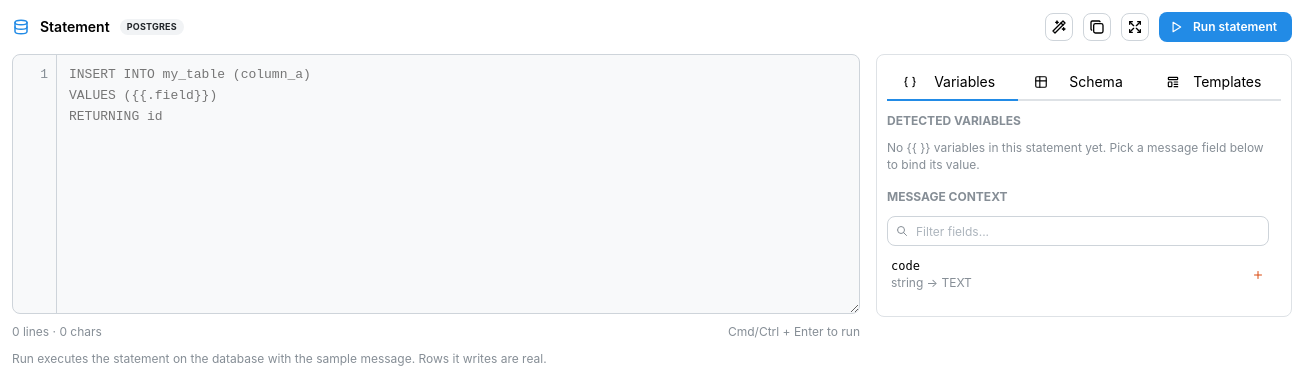
Test: SQL builder workspace › says a schema failure is a schema failure
This screenshot has width=1304, height=383.
Click the tab "Schema" at (1084, 83), box top-left (1018, 65), bottom-right (1150, 101)
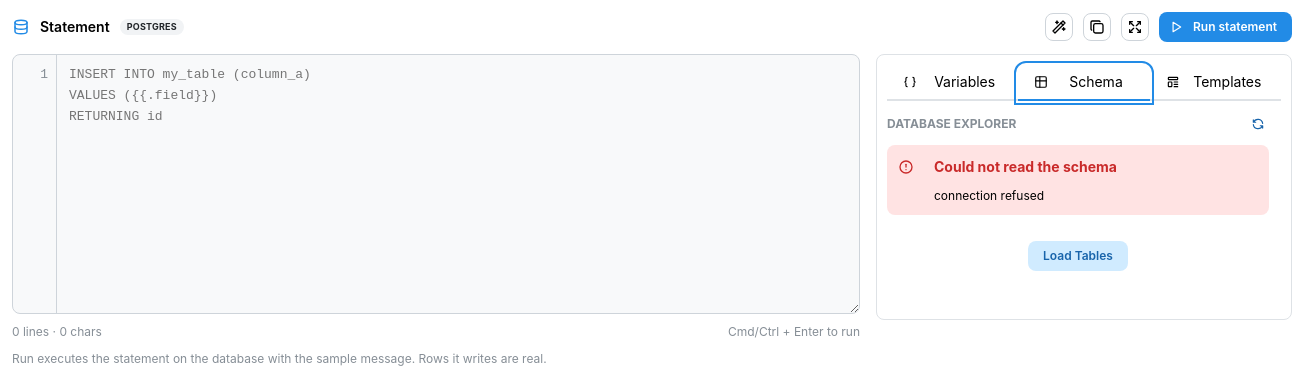
Expected: the text "connection refused" is shown, top-left (934, 188), bottom-right (1044, 203)
